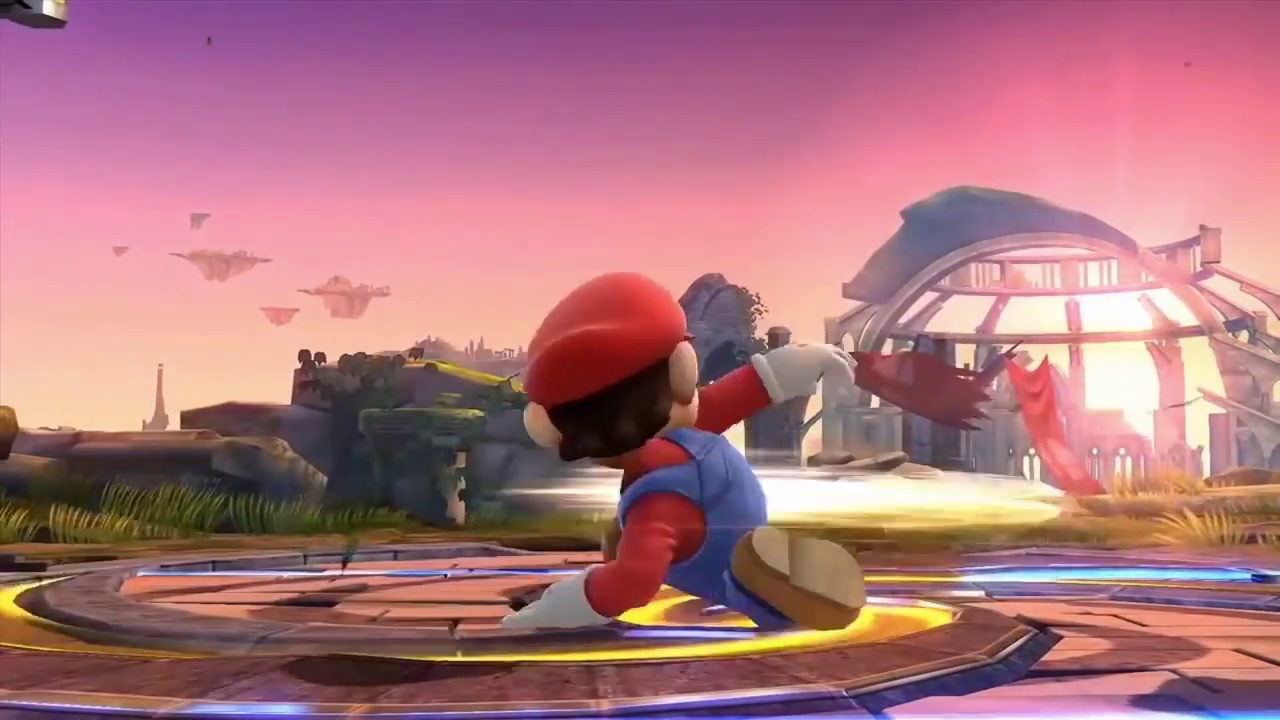Mario: (500, 275, 862, 631)
